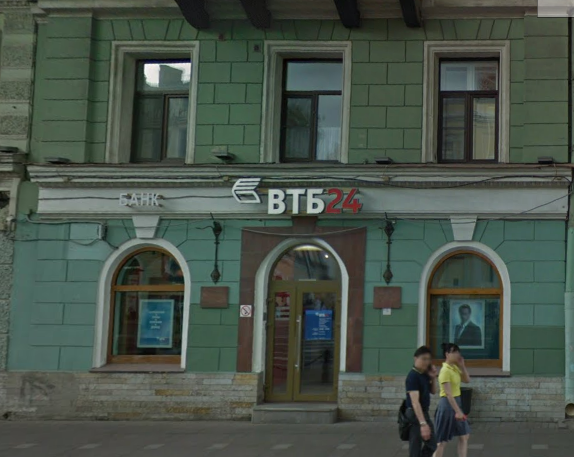door: (264, 272, 338, 405)
signboard: (221, 168, 371, 222), (115, 190, 165, 209)
window: (435, 58, 496, 165), (425, 286, 504, 367), (283, 56, 343, 162), (103, 286, 184, 361), (135, 57, 187, 161)
